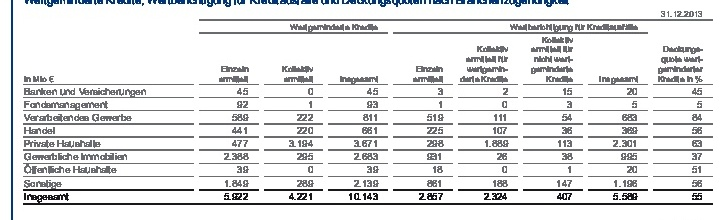table: (0, 0, 726, 220)
